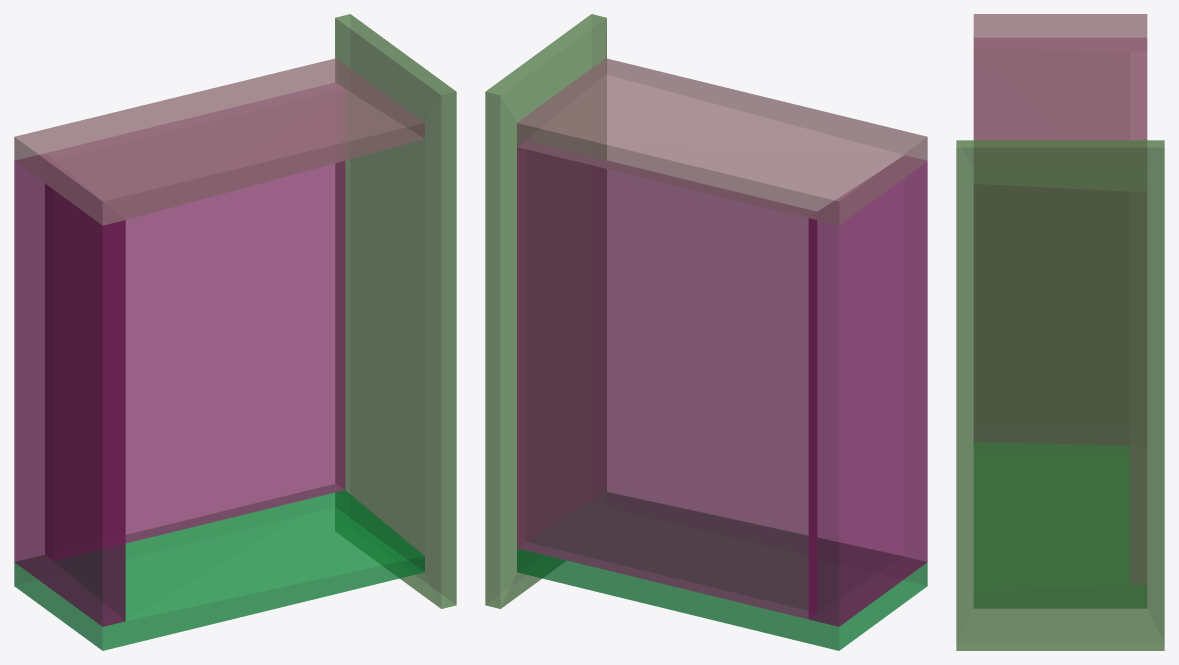
The model's file is SinkAreaMedDrawer.obj.
3 renders of one model, left to right at view 1: azimuth 30°, elevation 25°; view 2: azimuth 150°, elevation 25°; view 3: azimuth 270°, elevation 25°, orthographic. The views are drawn at different scales.
Parts seen in each view (by area): view 1: Shape_IndexedFaceSet_Shape_IndexedFaceSet.042; view 2: Shape_IndexedFaceSet_Shape_IndexedFaceSet.042; view 3: Shape_IndexedFaceSet_Shape_IndexedFaceSet.042.
Part boxes in pixels (bbox=[...]): Shape_IndexedFaceSet_Shape_IndexedFaceSet.042: bbox=[14, 14, 456, 650]; Shape_IndexedFaceSet_Shape_IndexedFaceSet.042: bbox=[485, 14, 927, 650]; Shape_IndexedFaceSet_Shape_IndexedFaceSet.042: bbox=[956, 14, 1164, 650].
Size of the model in its own units: 0.5678 by 0.8076 by 0.3029.
